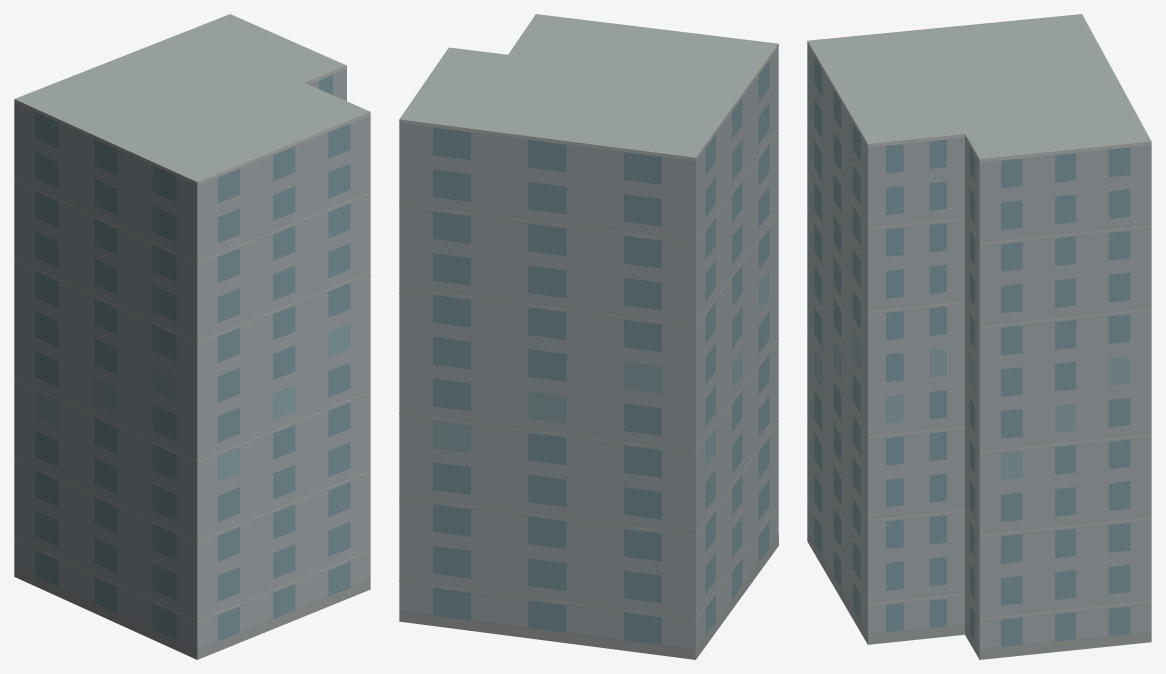
Rendered from survey-upis-32836461.glb.
The picture shows the model from 3 angles, left to right: view 1: azimuth 30°, elevation 25°; view 2: azimuth 150°, elevation 25°; view 3: azimuth 270°, elevation 25°; orthographic projection. The views are drawn at different scales.
Visible parts, largest first — view 1: survey-upis-32836461.tmp; view 2: survey-upis-32836461.tmp; view 3: survey-upis-32836461.tmp.
Part boxes in pixels (left/top/right/bottom): survey-upis-32836461.tmp: left=14, top=14, right=370, bottom=659; survey-upis-32836461.tmp: left=399, top=14, right=778, bottom=659; survey-upis-32836461.tmp: left=807, top=14, right=1151, bottom=659.
Size of the model in its own units: 22.78 by 36.6 by 22.82.
